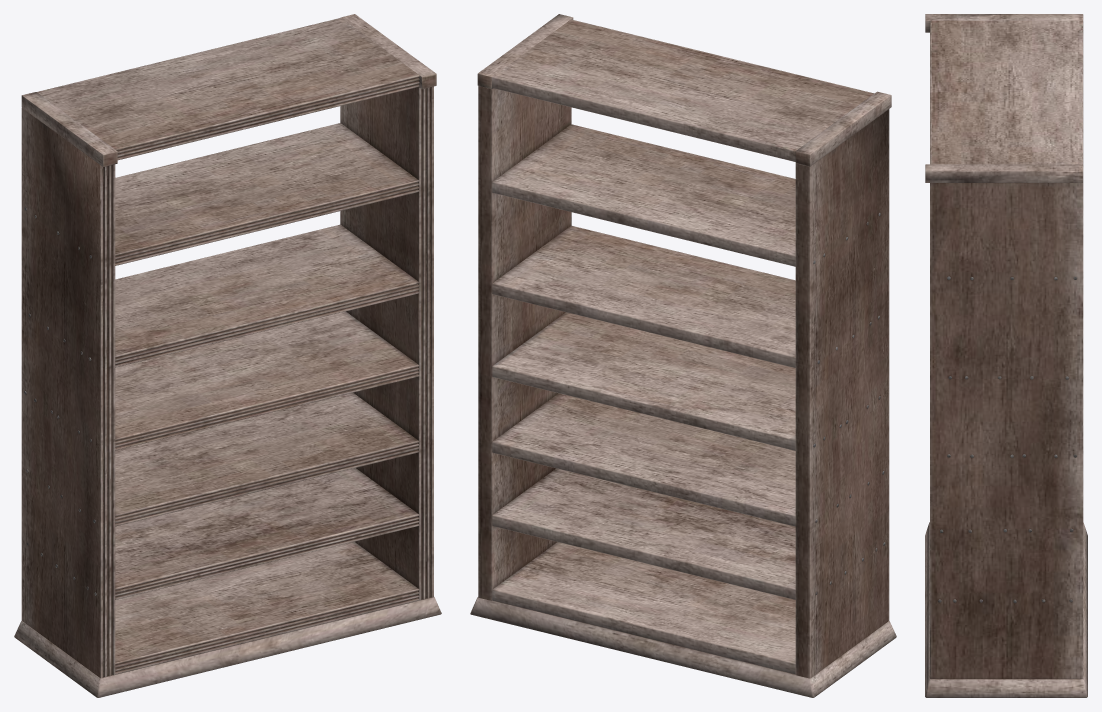
File: wooden_bookshelf_worn.glb
3 views of the same model, side by side, from view 1: azimuth 30°, elevation 25°; view 2: azimuth 150°, elevation 25°; view 3: azimuth 270°, elevation 25° (orthographic). The views are drawn at different scales.
Parts seen in each view (by area): view 1: wooden_bookshelf_worn; view 2: wooden_bookshelf_worn; view 3: wooden_bookshelf_worn.
Boxes of the visible parts, bbox=[...] form: wooden_bookshelf_worn: bbox=[14, 14, 441, 697]; wooden_bookshelf_worn: bbox=[470, 14, 896, 697]; wooden_bookshelf_worn: bbox=[925, 14, 1087, 697].
Bounding box in the file's own units: 1.37 × 2.06 × 0.5813.
1 material, 1 textured.
